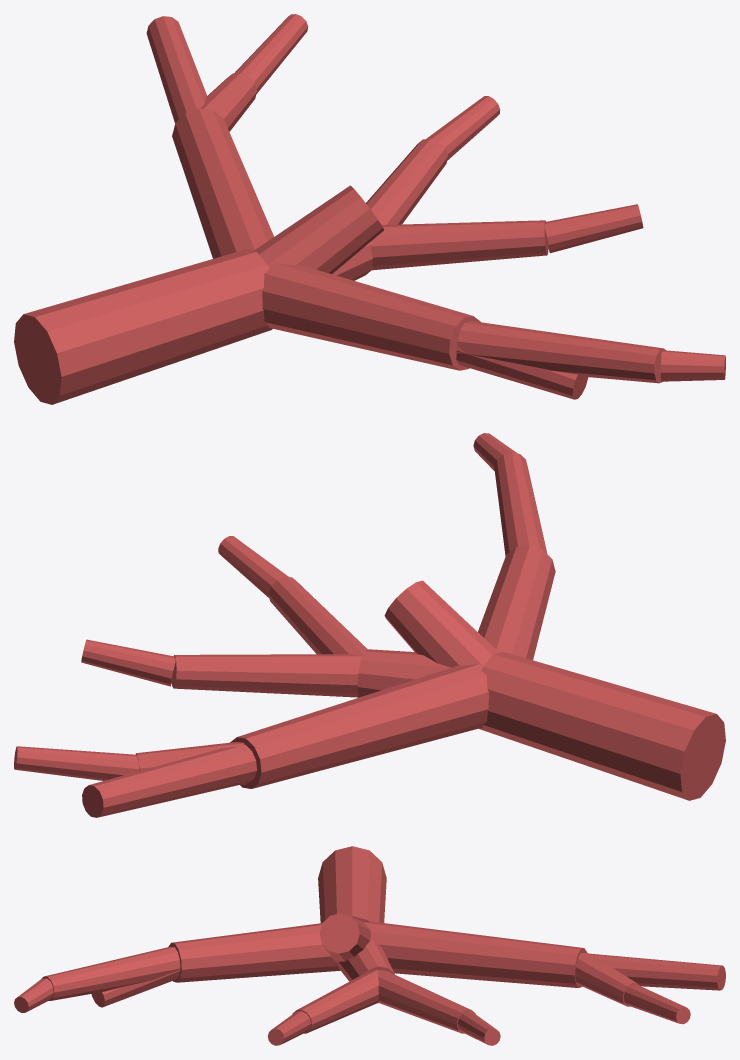
The model's file is renal_arteries.glb.
The picture shows the model from 3 angles, top to bottom: view 1: azimuth 30°, elevation 25°; view 2: azimuth 150°, elevation 25°; view 3: azimuth 270°, elevation 25°; orthographic projection. The views are drawn at different scales.
Parts seen in each view (by area): view 1: geometry_0; view 2: geometry_0; view 3: geometry_0.
Boxes of the visible parts, box(x1,y1,x2,y2) form: geometry_0: box(14, 14, 725, 404); geometry_0: box(14, 433, 725, 817); geometry_0: box(14, 846, 725, 1045).
Bounding box in the file's own units: 36.47 × 9.06 × 55.93.
